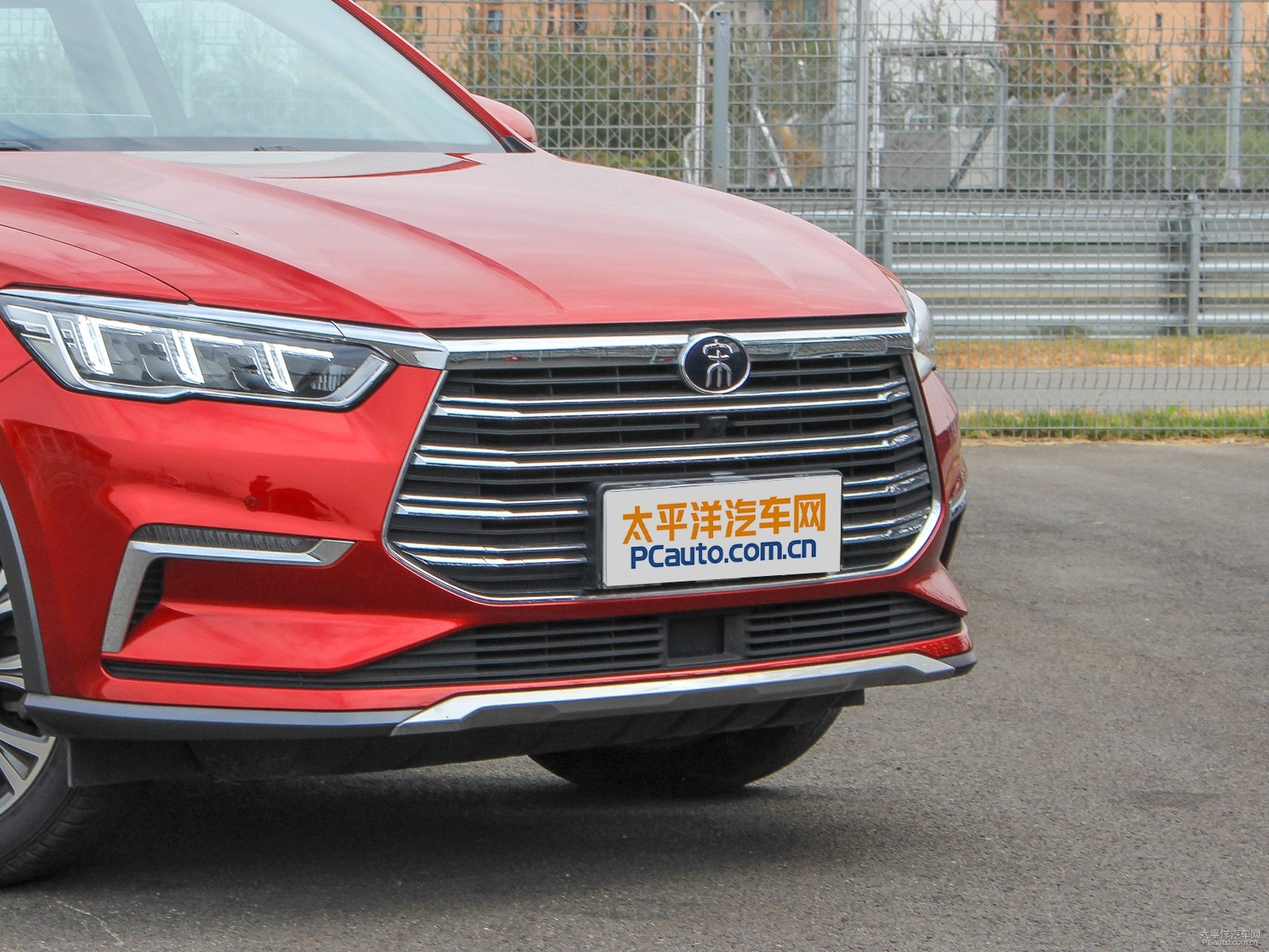BYD Song: (682, 334, 750, 393)
